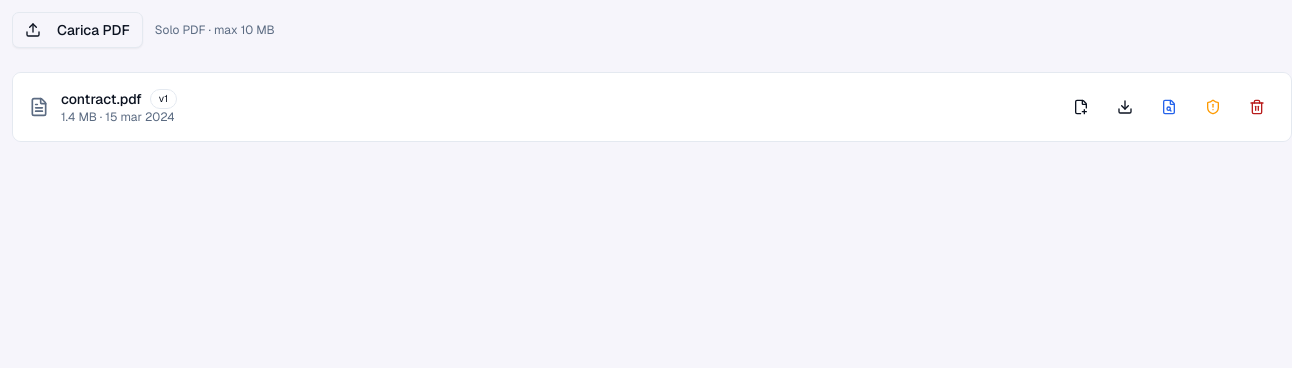
Test: DocumentsTab › hides raw text section when rawText is empty
Step 1. Click the button titled "Estrai campi" → (1169, 107), box [1151, 91, 1187, 123]
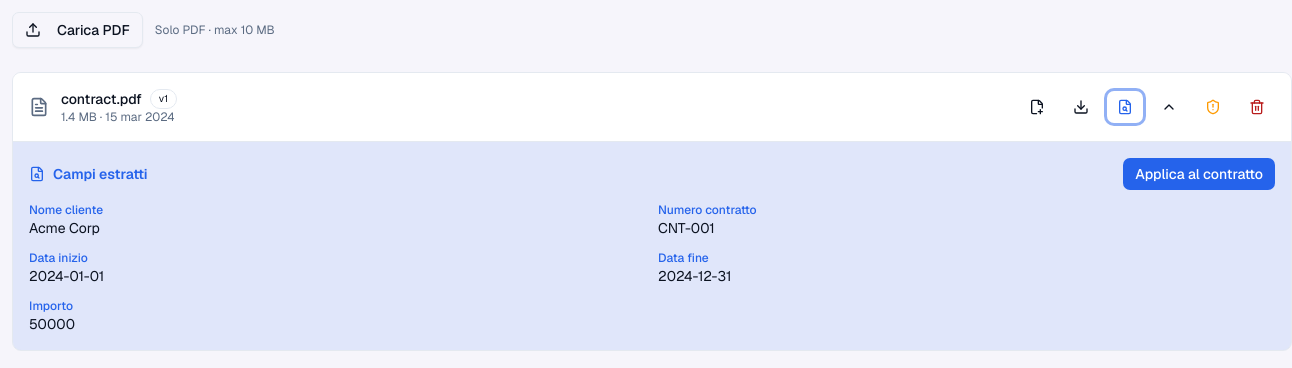
Now the heading "Campi estratti" is shown, box [29, 164, 148, 184]
